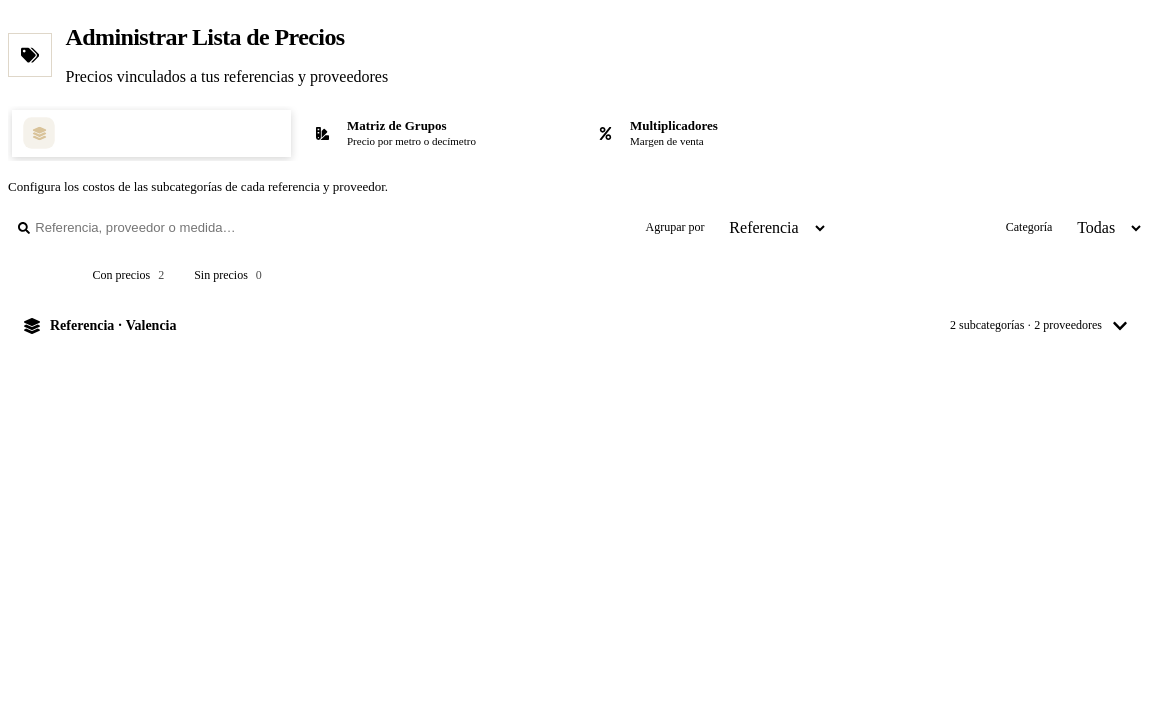
Una referencia con proveedor independiente por subcategoría › un costo cero confirmado puede publicarse sin revisar otras subcategorías
Click the button with aria-label "Expandir referencia Valencia" at (113, 325), box [8,304,1144,348]
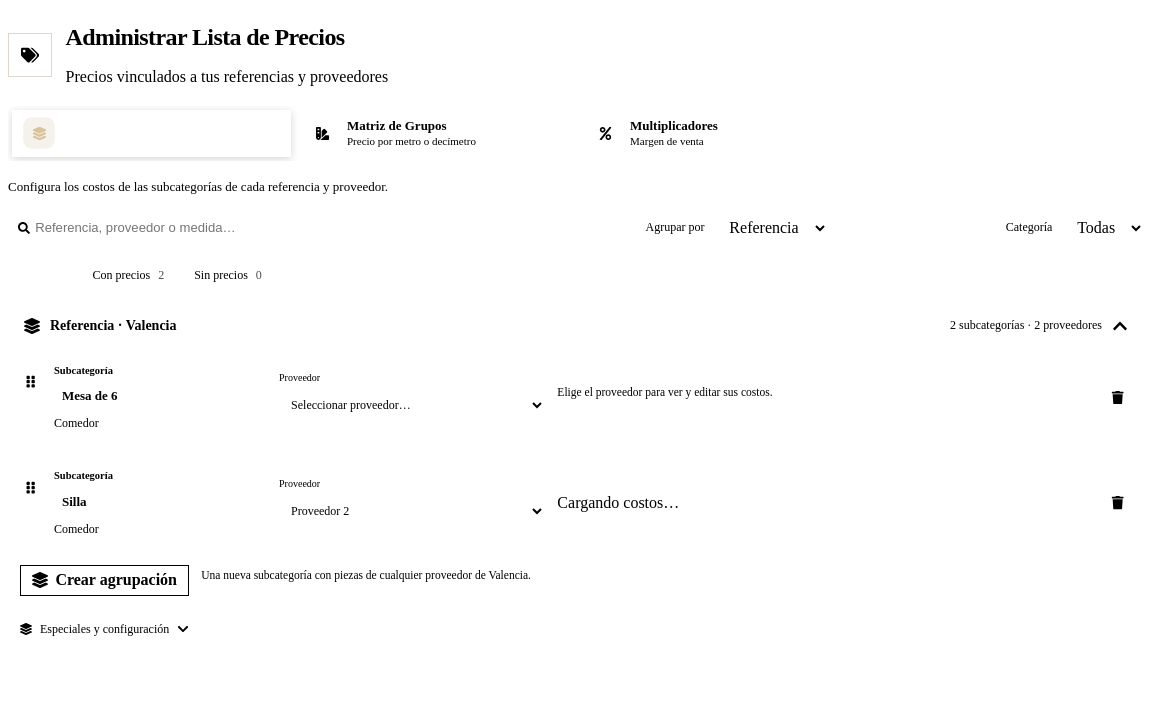
Select "Proveedor 1" in the dropdown named "Proveedor de Mesa de 6" at (412, 405), box [279,388,545,422]
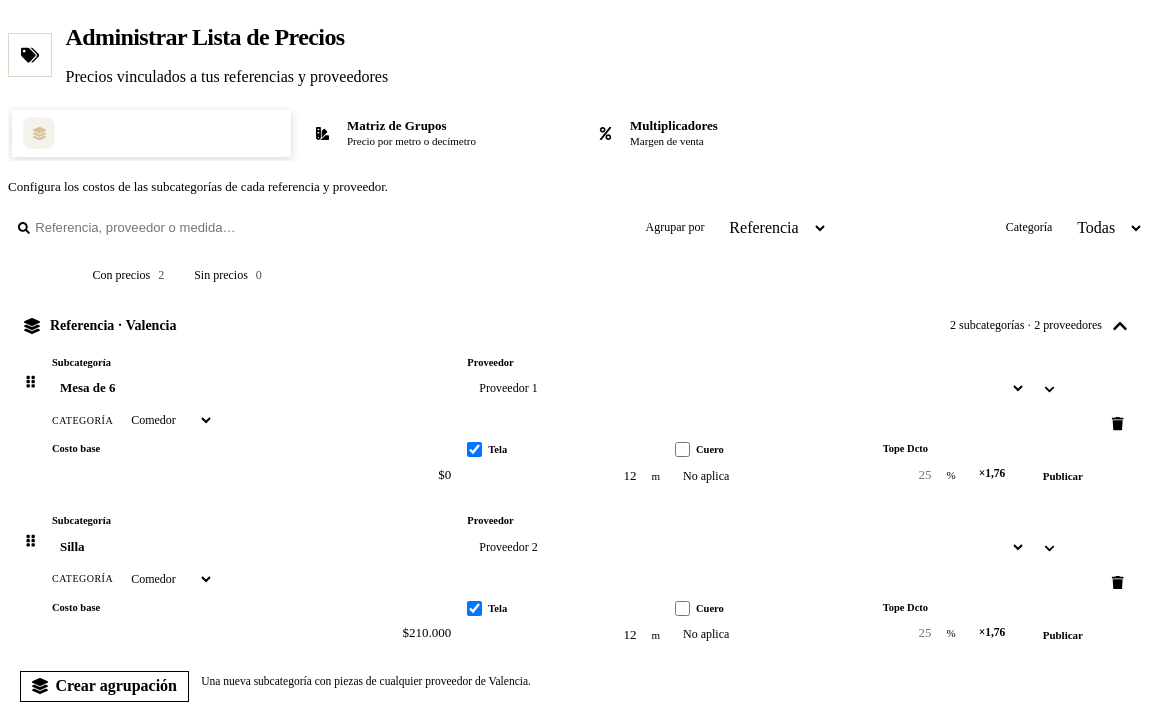
Check: the button with aria-label "Publicar Mesa de 6" is enabled
Click the button with aria-label "Publicar Mesa de 6" at (1063, 476), box [1034,460,1092,492]
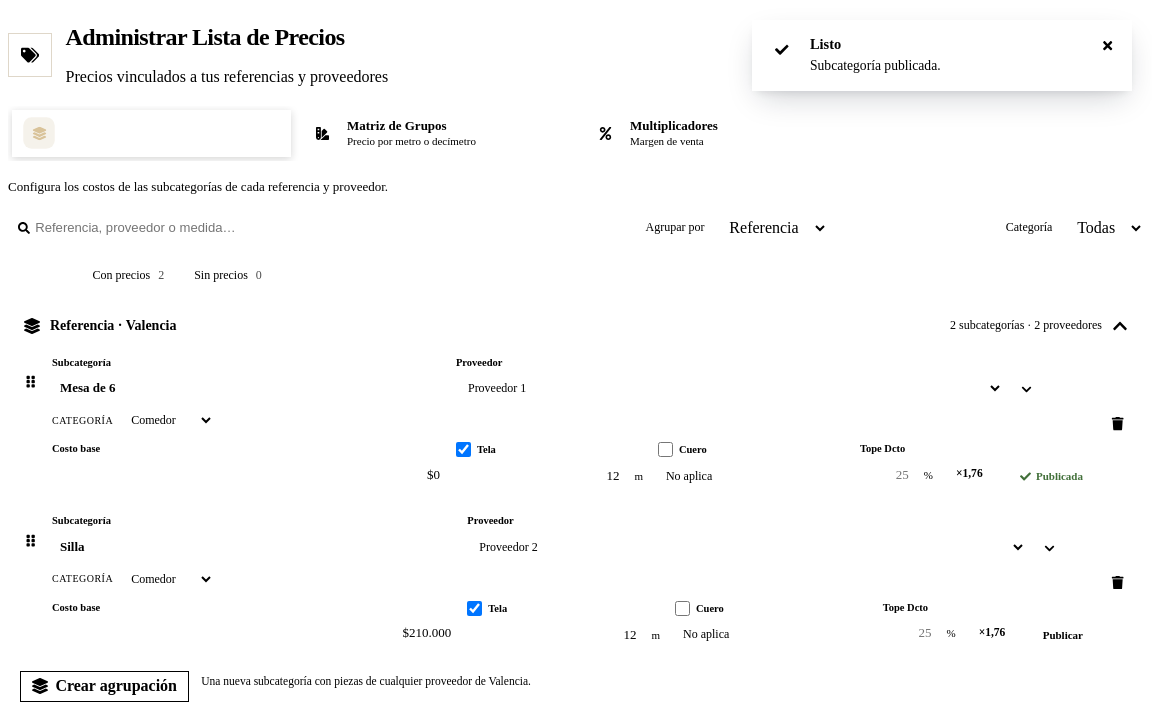
Check: the button with aria-label "Quitar publicación de Mesa de 6" is shown, box [1011,460,1092,492]
